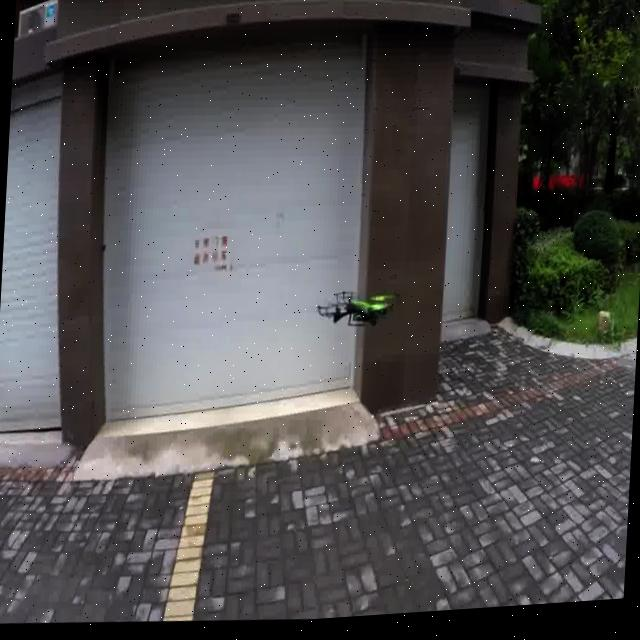drone: (308, 273, 403, 355)
